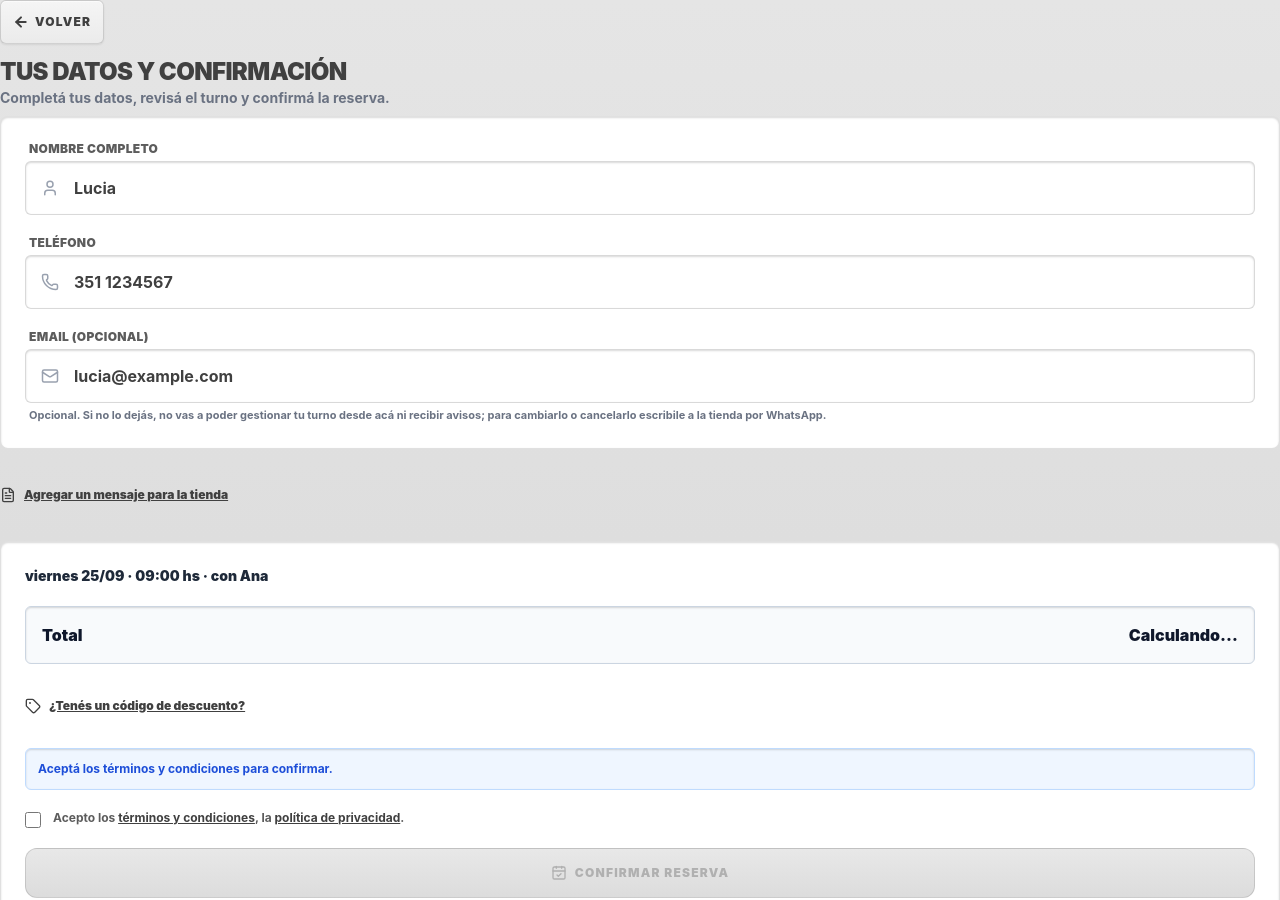
Scenario: BookingStepConfirmation › formulario › el ejemplo del telefono pasa la validacion de siempre
Click the checkbox at (33,820), box [25,812,41,828]
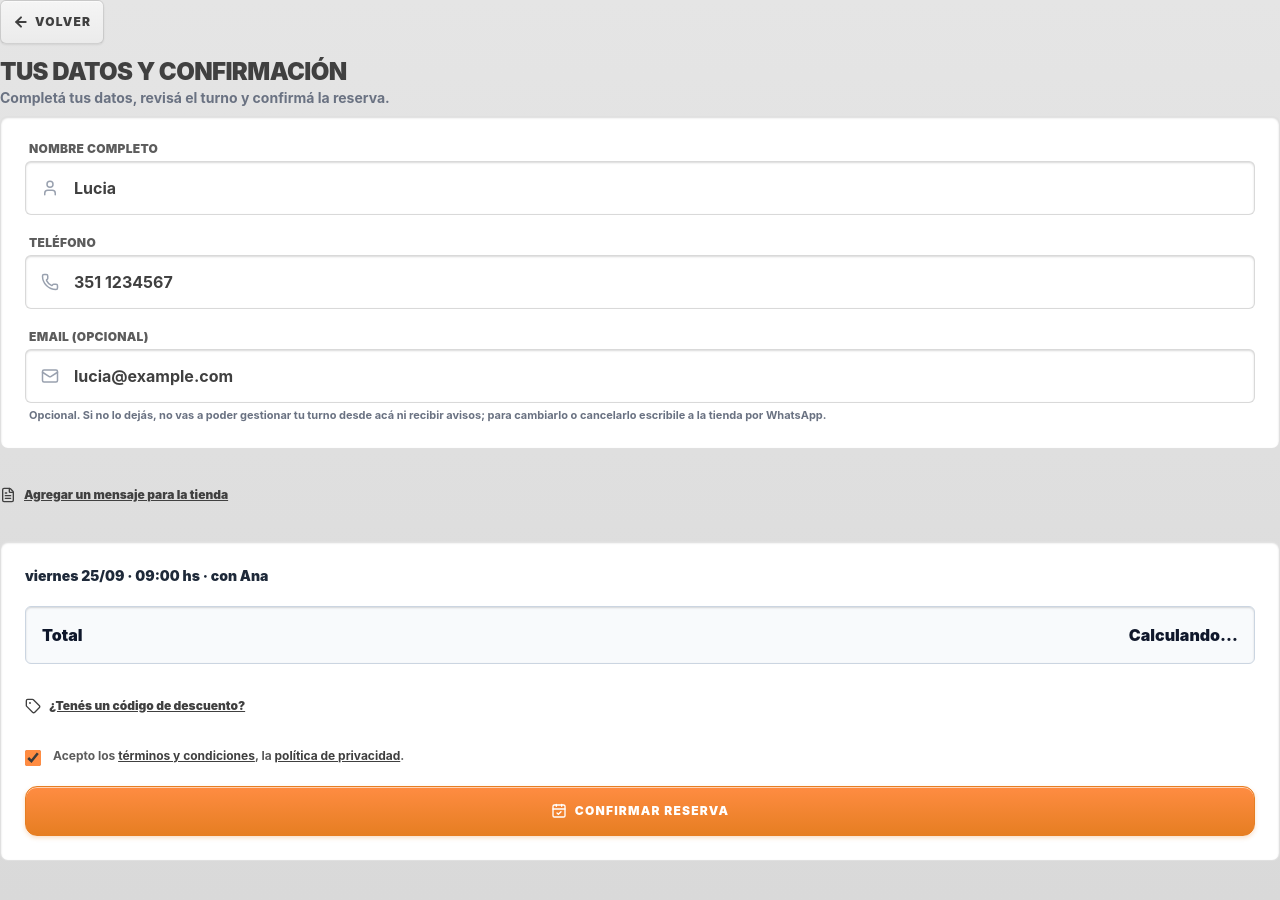
Now the button "Confirmar reserva" is enabled, box [25,786,1255,836]
